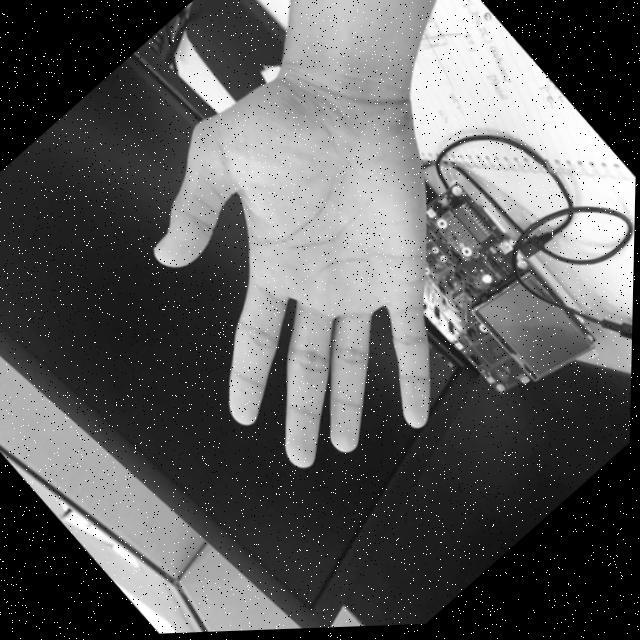no-gloves: (66, 30, 556, 535)
